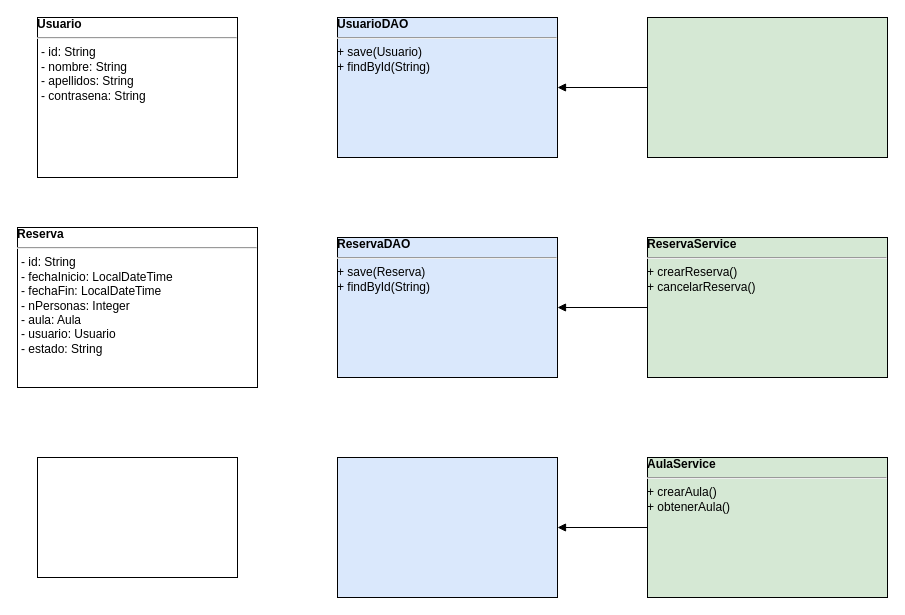
This 905x615 diagram has some shape labels left out. The centre of each missing label's shape, as x and y in pixels:
Aula - id: String - nombre: String - capacidad: Integer - edificio: String: pixel 137 517
AulaDAO + save(Aula) + findById(String): pixel 447 527
UsuarioService + crearUsuario() + obtenerUsuario(): pixel 767 87
